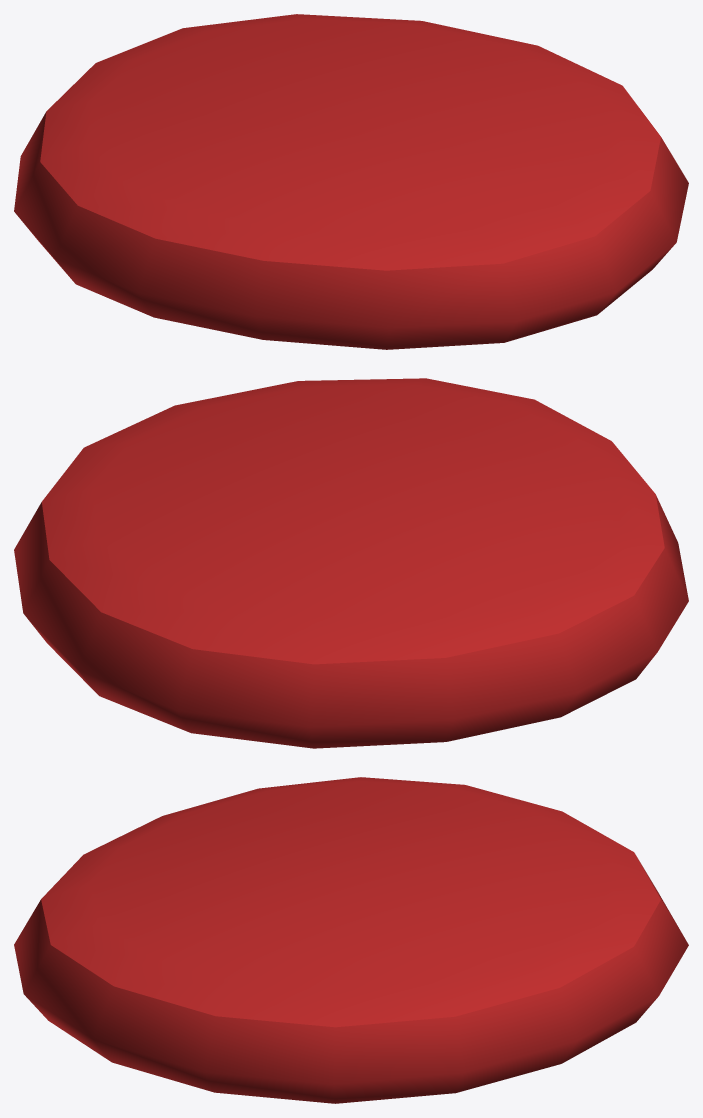
Rendered from SM_bread_loaf.fbx.
The picture shows the model from 3 angles, top to bottom: view 1: azimuth 30°, elevation 25°; view 2: azimuth 150°, elevation 25°; view 3: azimuth 270°, elevation 25°; orthographic projection. The views are drawn at different scales.
Visible parts, largest first — view 1: Cylinder424339; view 2: Cylinder424339; view 3: Cylinder424339.
Part boxes in pixels (<box>): Cylinder424339: <box>14,14,688,349</box>; Cylinder424339: <box>14,378,688,748</box>; Cylinder424339: <box>14,777,688,1103</box>.
Size of the model in its own units: 23.58 by 3.66 by 24.69.
